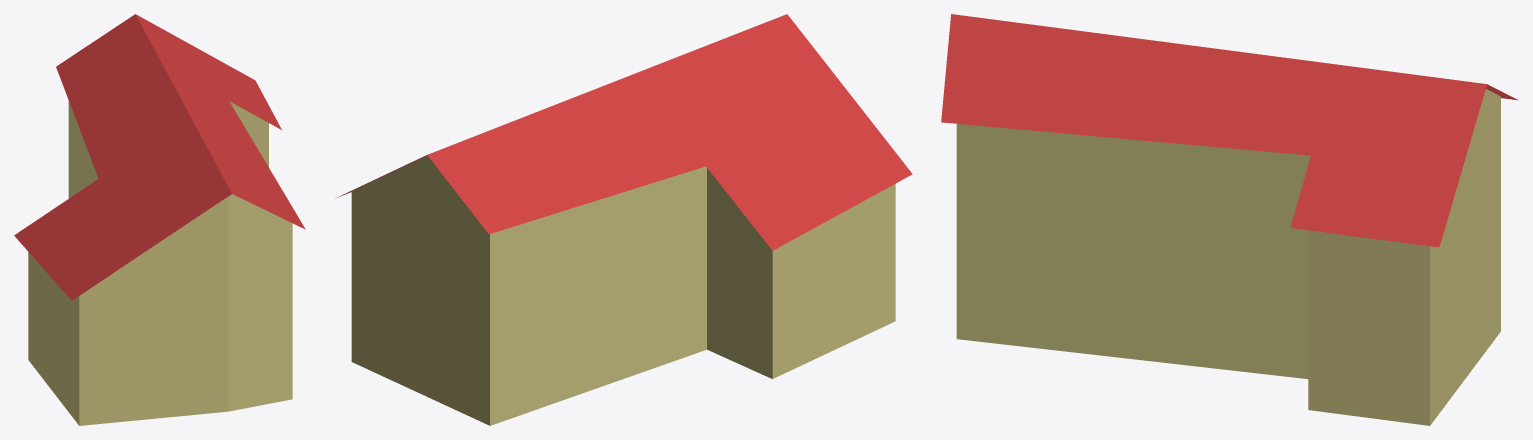
3 renders of one model, left to right at view 1: azimuth 30°, elevation 25°; view 2: azimuth 150°, elevation 25°; view 3: azimuth 270°, elevation 25°, orthographic. The views are drawn at different scales.
Bounding box in the file's own units: 17.98 × 20.04 × 10.94.
